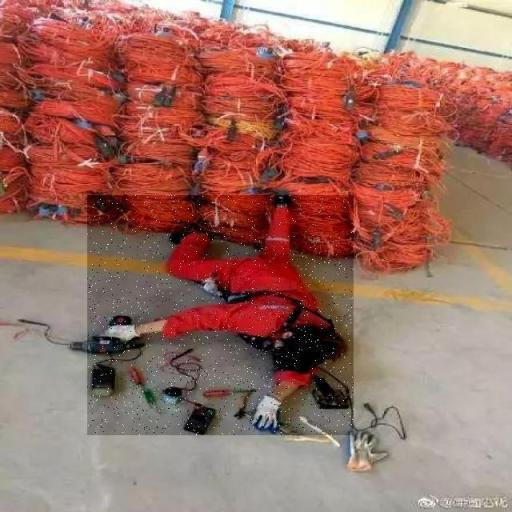Fall: (87, 195, 354, 435)
